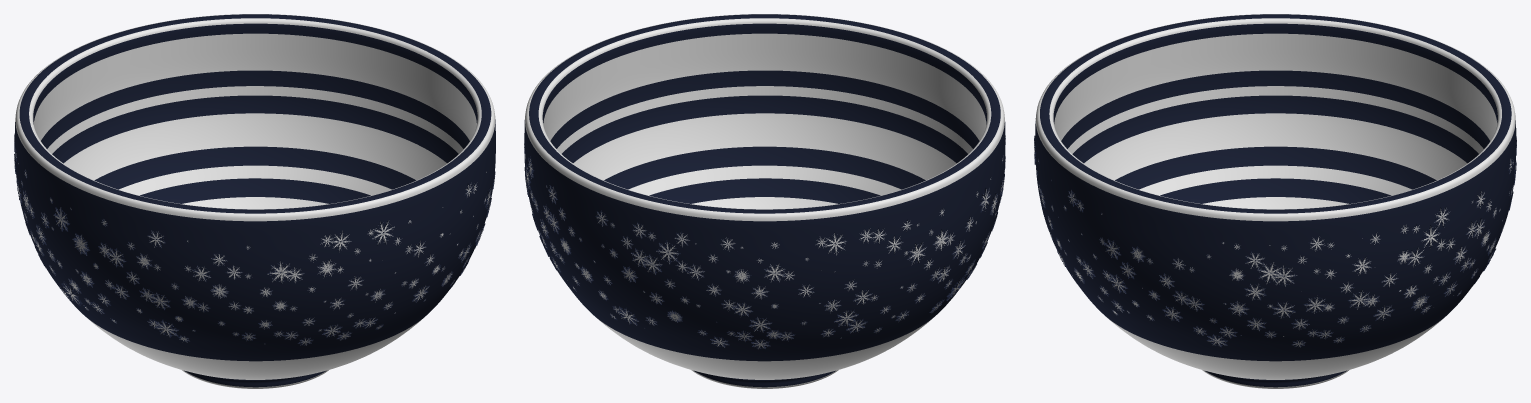
File: bowl.glb
3 renders of one model, left to right at view 1: azimuth 30°, elevation 25°; view 2: azimuth 150°, elevation 25°; view 3: azimuth 270°, elevation 25°, orthographic.
Parts seen in each view (by area): view 1: Cylinder_BowlBlue_0, Cylinder_Bowl White_0; view 2: Cylinder_BowlBlue_0, Cylinder_Bowl White_0; view 3: Cylinder_BowlBlue_0, Cylinder_Bowl White_0.
Boxes of the visible parts, x1,y1,x2,y2 form: Cylinder_BowlBlue_0: (15,14,495,387); Cylinder_Bowl White_0: (15,14,495,388); Cylinder_BowlBlue_0: (524,14,1005,387); Cylinder_Bowl White_0: (525,14,1004,388); Cylinder_BowlBlue_0: (1035,14,1516,387); Cylinder_Bowl White_0: (1035,14,1515,388).
Size of the model in its own units: 5.62 by 3.1 by 5.62.
